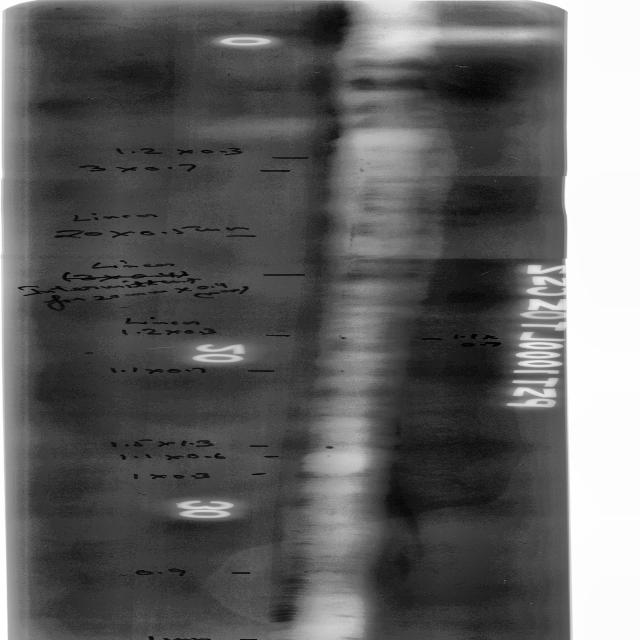porosity: (347, 228, 356, 245), (353, 167, 366, 174), (321, 454, 339, 459), (339, 369, 355, 374), (321, 446, 341, 450), (300, 569, 315, 574), (337, 335, 349, 340), (343, 273, 353, 277), (331, 473, 342, 476), (365, 163, 376, 166), (359, 158, 368, 161), (303, 638, 311, 640)
